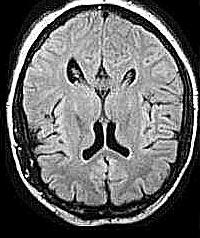Normal_Brain: (1, 1, 200, 237)
